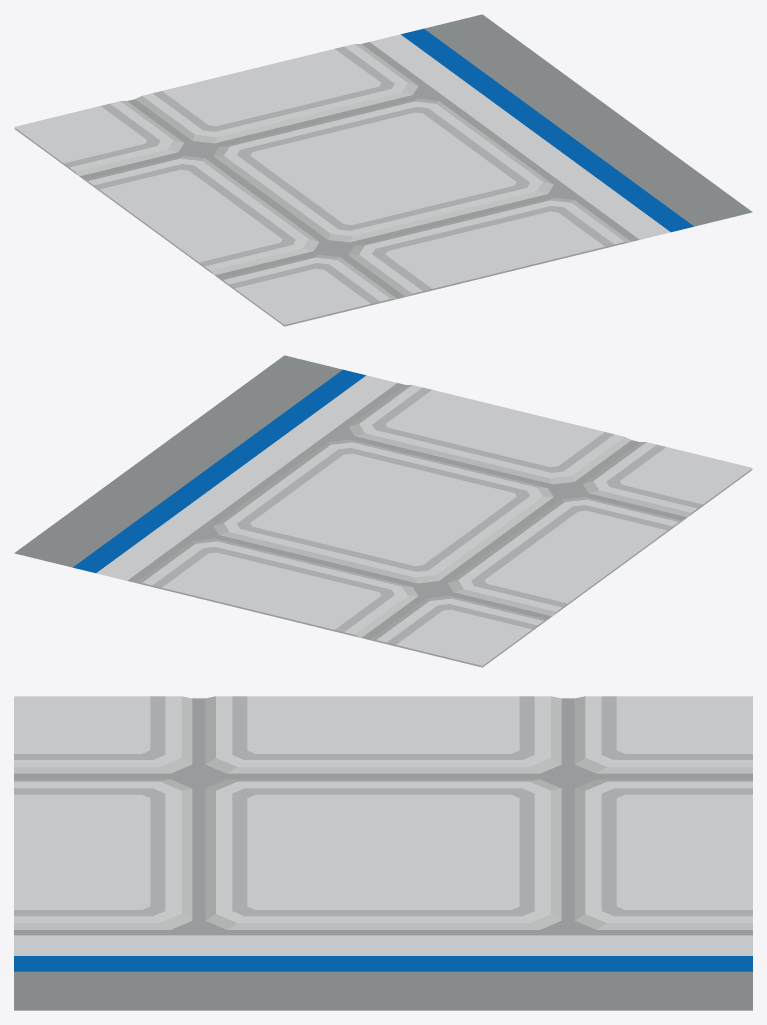
The model's file is Floor_type_A_026.fbx.
The picture shows the model from 3 angles, top to bottom: view 1: azimuth 30°, elevation 25°; view 2: azimuth 150°, elevation 25°; view 3: azimuth 270°, elevation 25°; orthographic projection. The views are drawn at different scales.
Parts seen in each view (by area): view 1: Floor_type_A_026; view 2: Floor_type_A_026; view 3: Floor_type_A_026.
Part boxes in pixels (<box>): Floor_type_A_026: <box>14,14,752,326</box>; Floor_type_A_026: <box>14,355,752,667</box>; Floor_type_A_026: <box>14,696,752,1010</box>.
Size of the model in its own units: 400 by 400 by 1.34.
